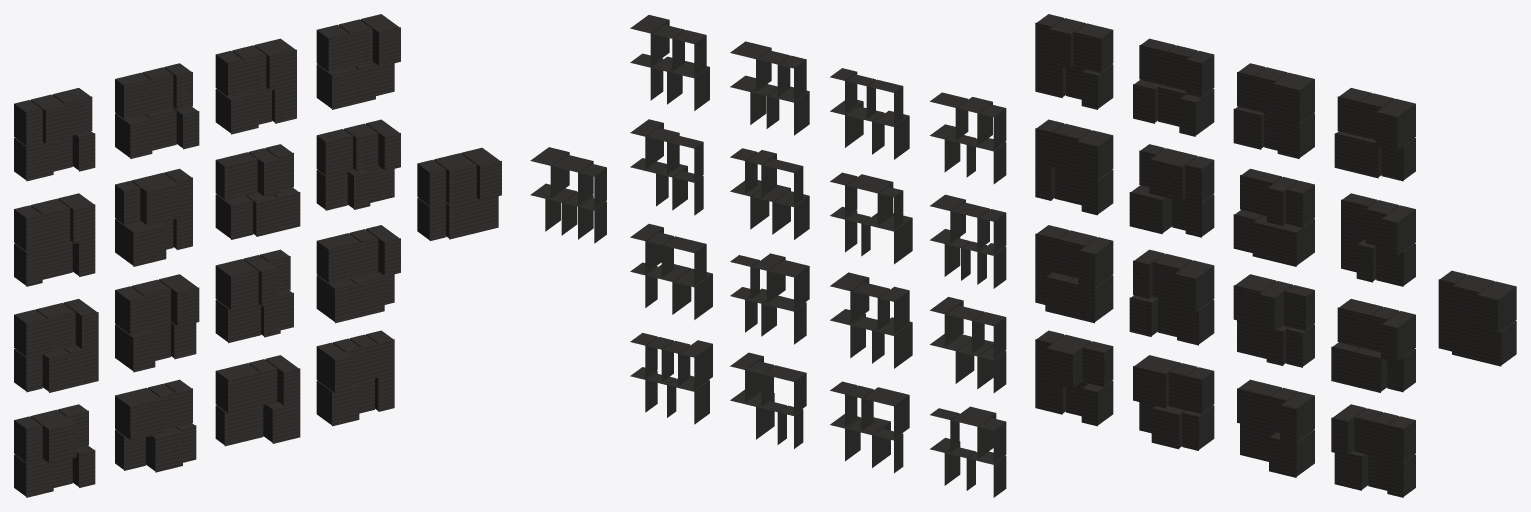
The model's file is city_buildings.gltf.
3 renders of one model, left to right at view 1: azimuth 30°, elevation 25°; view 2: azimuth 150°, elevation 25°; view 3: azimuth 330°, elevation 25°, orthographic.
Parts seen in each view (by area): view 1: city_buildings; view 2: city_buildings; view 3: city_buildings.
Boxes of the visible parts, x1,y1,x2,y2 form: city_buildings: [14, 14, 501, 497]; city_buildings: [530, 15, 1006, 497]; city_buildings: [1035, 14, 1516, 497].
Bounding box in the file's own units: 256 × 201 × 18.02.
2 materials, 1 textured.
